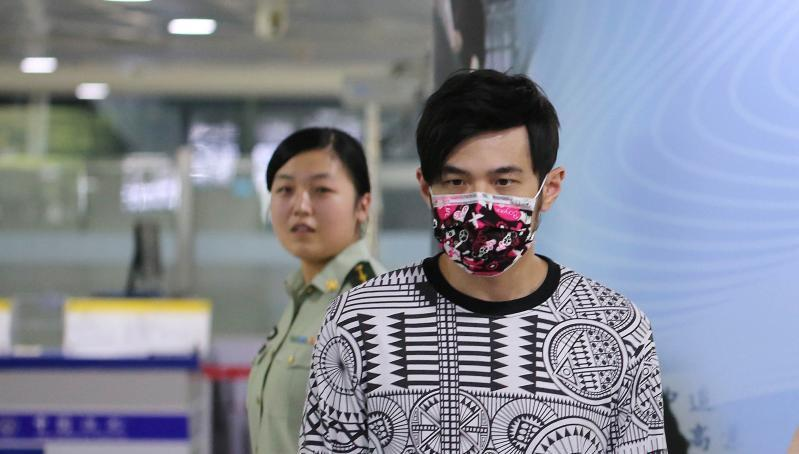NONE: (270, 170, 349, 250)
OK: (426, 155, 540, 269)
